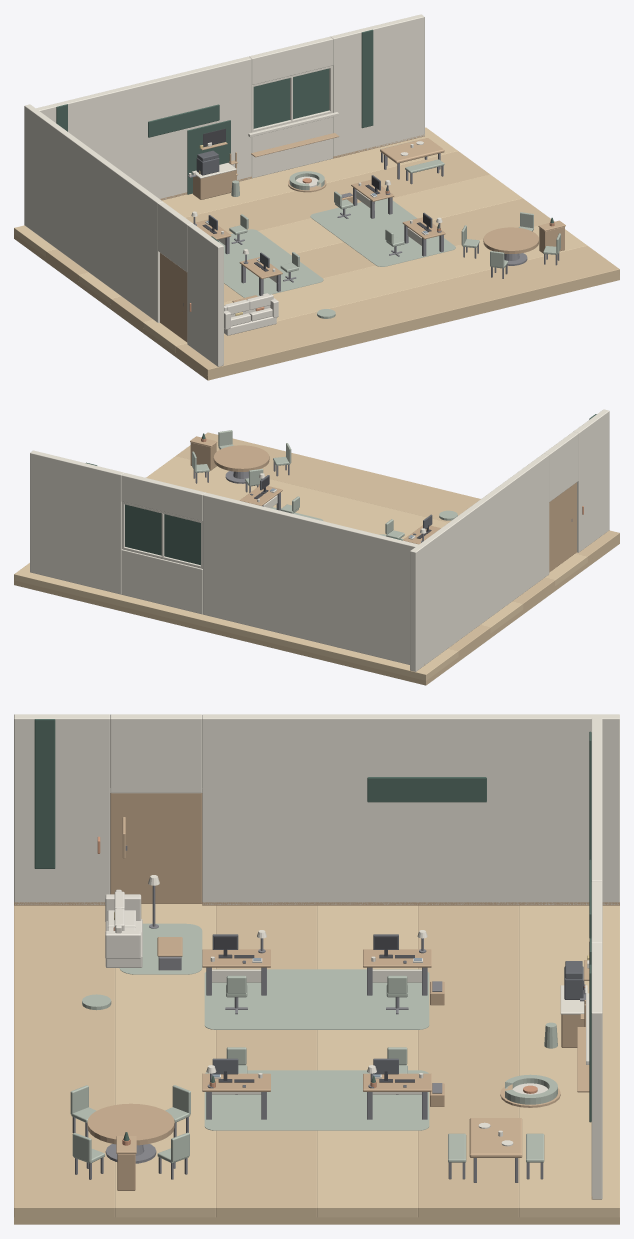
Rendered from office-r5-final.glb.
3 views of the same model, one above another, from view 1: azimuth 30°, elevation 25°; view 2: azimuth 150°, elevation 25°; view 3: azimuth 270°, elevation 25° (orthographic). The views are drawn at different scales.
Parts seen in each view (by area): view 1: Runtime_Arch, Runtime_Rugs, Runtime_Desks, Runtime_CoffeeCabinet, Runtime_Sofa, Runtime_MeetingTable, Runtime_MeetingChairs, Runtime_Chairs, Runtime_DiningTable, Runtime_CatHome, Runtime_Devices, Runtime_MeetingStorage (+1 smaller); view 2: Runtime_Arch, Runtime_MeetingTable, Runtime_MeetingChairs, Runtime_Desks, Runtime_MeetingStorage, Runtime_Chairs; view 3: Runtime_Arch, Runtime_Rugs, Runtime_Desks, Runtime_MeetingTable, Runtime_MeetingChairs, Runtime_Sofa, Runtime_Devices, Runtime_DiningTable, Runtime_Chairs, Runtime_CatHome, Runtime_DiningBenches, Runtime_SofaExtras (+4 smaller).
Part boxes in pixels (left/top/right/bottom): Runtime_Arch: left=14, top=14, right=619, bottom=380; Runtime_Rugs: left=218, top=198, right=455, bottom=317; Runtime_Desks: left=193, top=179, right=445, bottom=295; Runtime_CoffeeCabinet: left=187, top=120, right=237, bottom=199; Runtime_Sofa: left=224, top=293, right=278, bottom=335; Runtime_MeetingTable: left=483, top=227, right=538, bottom=265; Runtime_MeetingChairs: left=461, top=212, right=560, bottom=278; Runtime_Chairs: left=229, top=191, right=404, bottom=282; Runtime_DiningTable: left=380, top=138, right=444, bottom=179; Runtime_CatHome: left=288, top=171, right=326, bottom=192; Runtime_Devices: left=202, top=175, right=432, bottom=271; Runtime_MeetingStorage: left=538, top=217, right=565, bottom=254; Runtime_Arch: left=14, top=409, right=619, bottom=685; Runtime_MeetingTable: left=213, top=445, right=269, bottom=483; Runtime_MeetingChairs: left=192, top=430, right=291, bottom=492; Runtime_Desks: left=240, top=484, right=440, bottom=544; Runtime_MeetingStorage: left=190, top=433, right=217, bottom=470; Runtime_Chairs: left=280, top=496, right=404, bottom=538; Runtime_Arch: left=14, top=714, right=619, bottom=1224; Runtime_Rugs: left=119, top=923, right=429, bottom=1130; Runtime_Desks: left=202, top=949, right=431, bottom=1119; Runtime_MeetingTable: left=87, top=1103, right=174, bottom=1163; Runtime_MeetingChairs: left=70, top=1085, right=190, bottom=1179; Runtime_Sofa: left=105, top=889, right=142, bottom=967; Runtime_Devices: left=212, top=934, right=414, bottom=1087; Runtime_DiningTable: left=469, top=1118, right=522, bottom=1182; Runtime_Chairs: left=225, top=975, right=408, bottom=1094; Runtime_CatHome: left=500, top=1074, right=560, bottom=1107; Runtime_DiningBenches: left=448, top=1133, right=544, bottom=1179; Runtime_SofaExtras: left=122, top=817, right=182, bottom=970.
Size of the model in its own units: 16.2 by 4.91 by 13.2.
